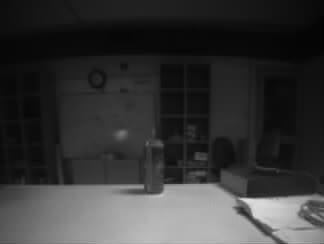Tin can: (144, 139, 163, 194)
